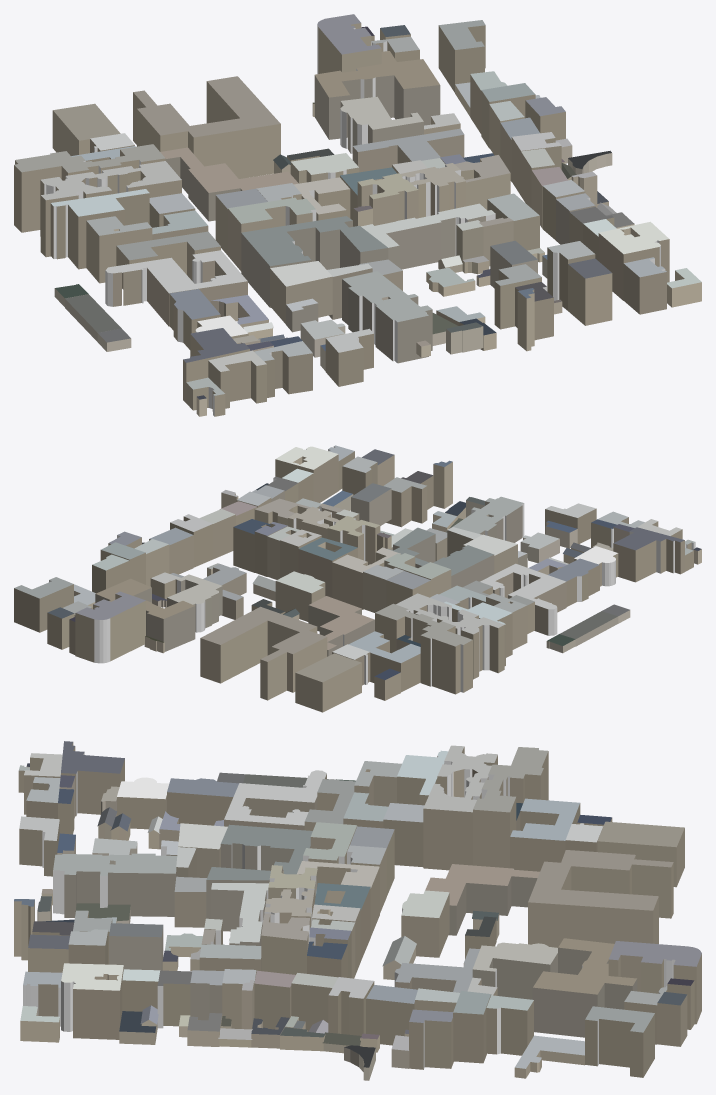
The picture shows the model from 3 angles, top to bottom: view 1: azimuth 30°, elevation 25°; view 2: azimuth 150°, elevation 25°; view 3: azimuth 270°, elevation 25°; orthographic projection. The views are drawn at different scales.
Parts seen in each view (by area): view 1: tuile; view 2: tuile; view 3: tuile.
Boxes of the visible parts, <box> form: tuile: <box>14,14,701,416</box>; tuile: <box>14,445,701,712</box>; tuile: <box>14,741,701,1080</box>.
Bounding box in the file's own units: 263 × 30.61 × 258.
